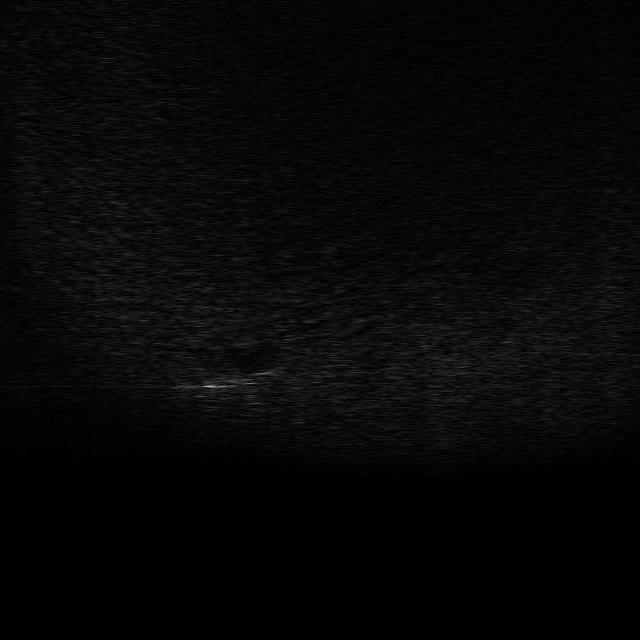plane: (174, 362, 282, 405)
